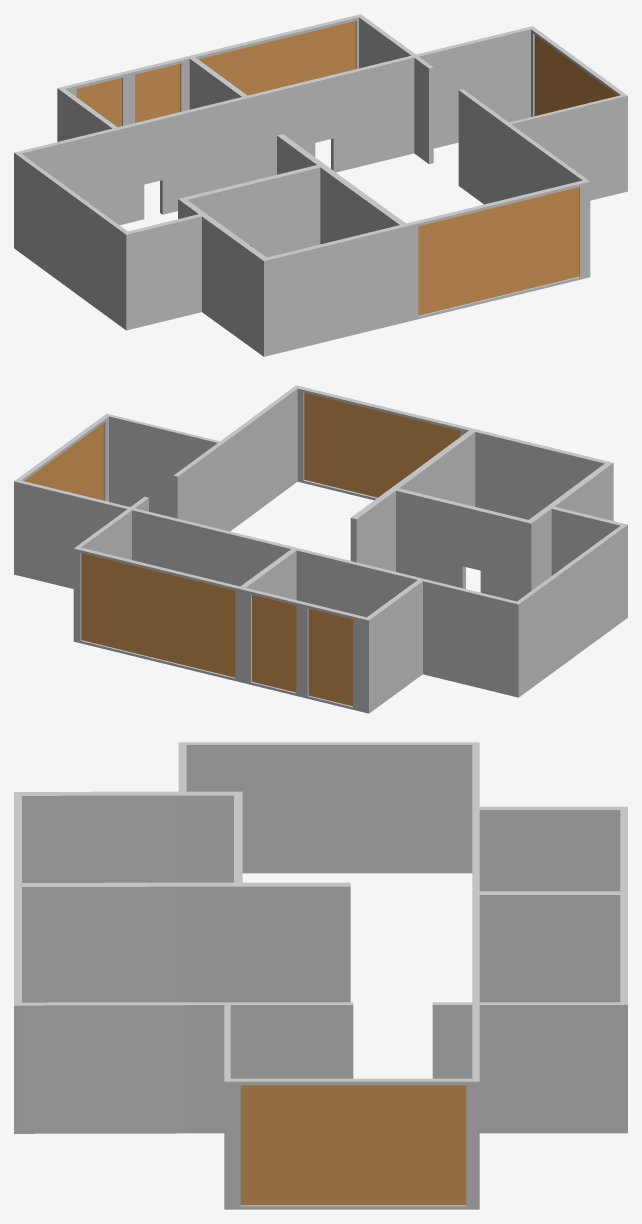
The model's file is offic_space_higher_ceiling 2.fbx.
3 views of the same model, one above another, from view 1: azimuth 30°, elevation 25°; view 2: azimuth 150°, elevation 25°; view 3: azimuth 270°, elevation 25° (orthographic). The views are drawn at different scales.
Parts seen in each view (by area): view 1: Cube.001, Plane.005, Plane.001, Plane.004, Plane.003, Plane.002; view 2: Cube.001, Plane.001, Plane.005, Plane.002, Plane.003, Plane.004; view 3: Cube.001, Plane.004.
Part boxes in pixels (bbox=[...]): Cube.001: bbox=[14, 14, 627, 356]; Plane.005: bbox=[418, 187, 578, 315]; Plane.001: bbox=[198, 21, 355, 95]; Plane.004: bbox=[534, 35, 617, 115]; Plane.003: bbox=[135, 64, 180, 122]; Plane.002: bbox=[76, 78, 121, 127]; Cube.001: bbox=[14, 385, 627, 713]; Plane.001: bbox=[81, 553, 235, 677]; Plane.005: bbox=[304, 393, 460, 497]; Plane.002: bbox=[308, 608, 352, 706]; Plane.003: bbox=[252, 595, 296, 692]; Plane.004: bbox=[24, 423, 103, 500]; Cube.001: bbox=[14, 742, 627, 1209]; Plane.004: bbox=[240, 1085, 466, 1205].
Bounding box in the file's own units: 3557 × 627 × 2720.
